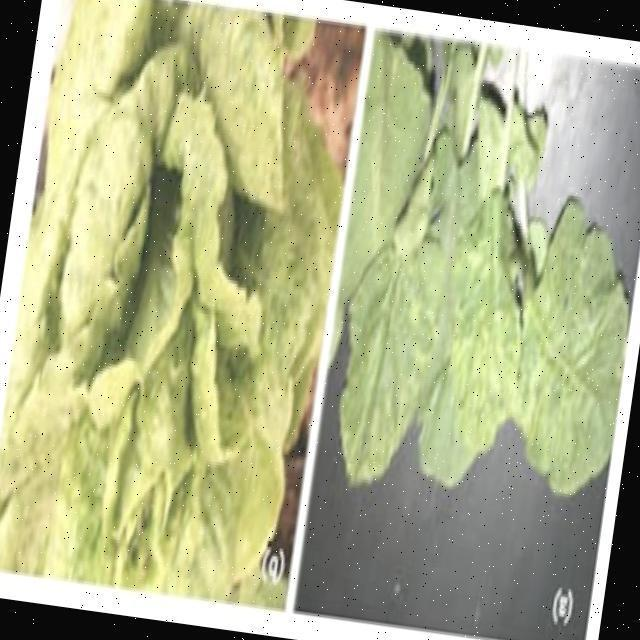Lettuce Mosaic Virus: (29, 79, 298, 514), (326, 58, 552, 451)
